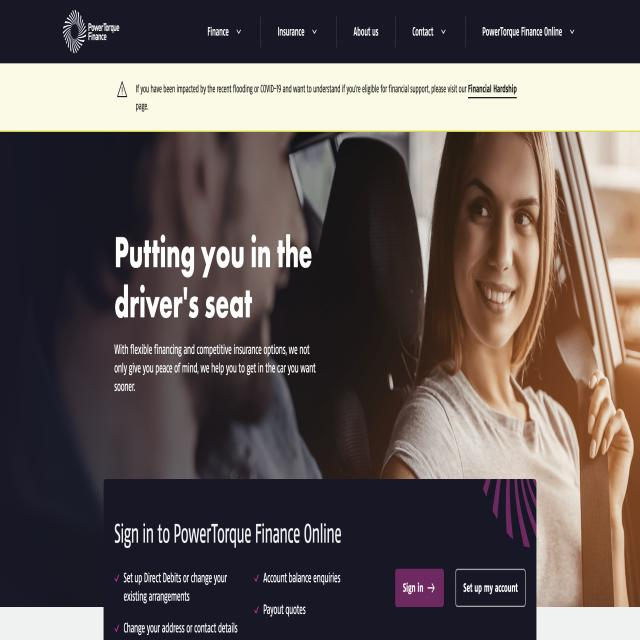Logo: (56, 0, 126, 67)
Navigation: (196, 9, 604, 55)
